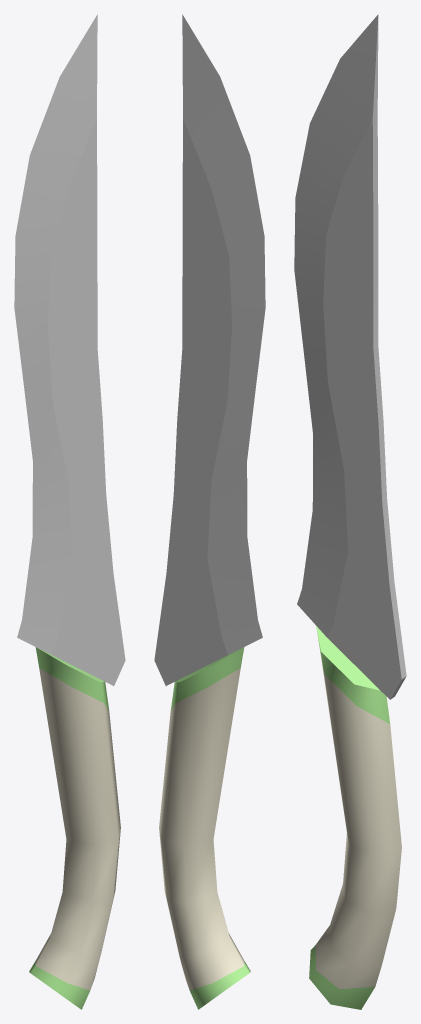
Rendered from elven_dagger.glb.
3 views of the same model, side by side, from view 1: azimuth 30°, elevation 25°; view 2: azimuth 150°, elevation 25°; view 3: azimuth 330°, elevation 25° (orthographic).
Parts seen in each view (by area): view 1: ElvenShortSword; view 2: ElvenShortSword; view 3: ElvenShortSword.
Boxes of the visible parts, x1,y1,x2,y2 form: ElvenShortSword: (14,14,125,1009); ElvenShortSword: (154,14,265,1009); ElvenShortSword: (294,14,406,1009).
Size of the model in its own units: 0.2502 by 2.18 by 0.1251.
